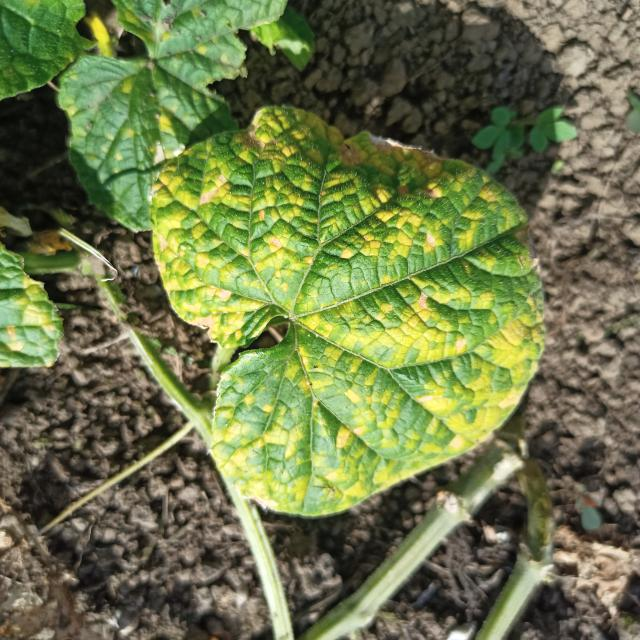disease_cucumber: (155, 123, 537, 514)
